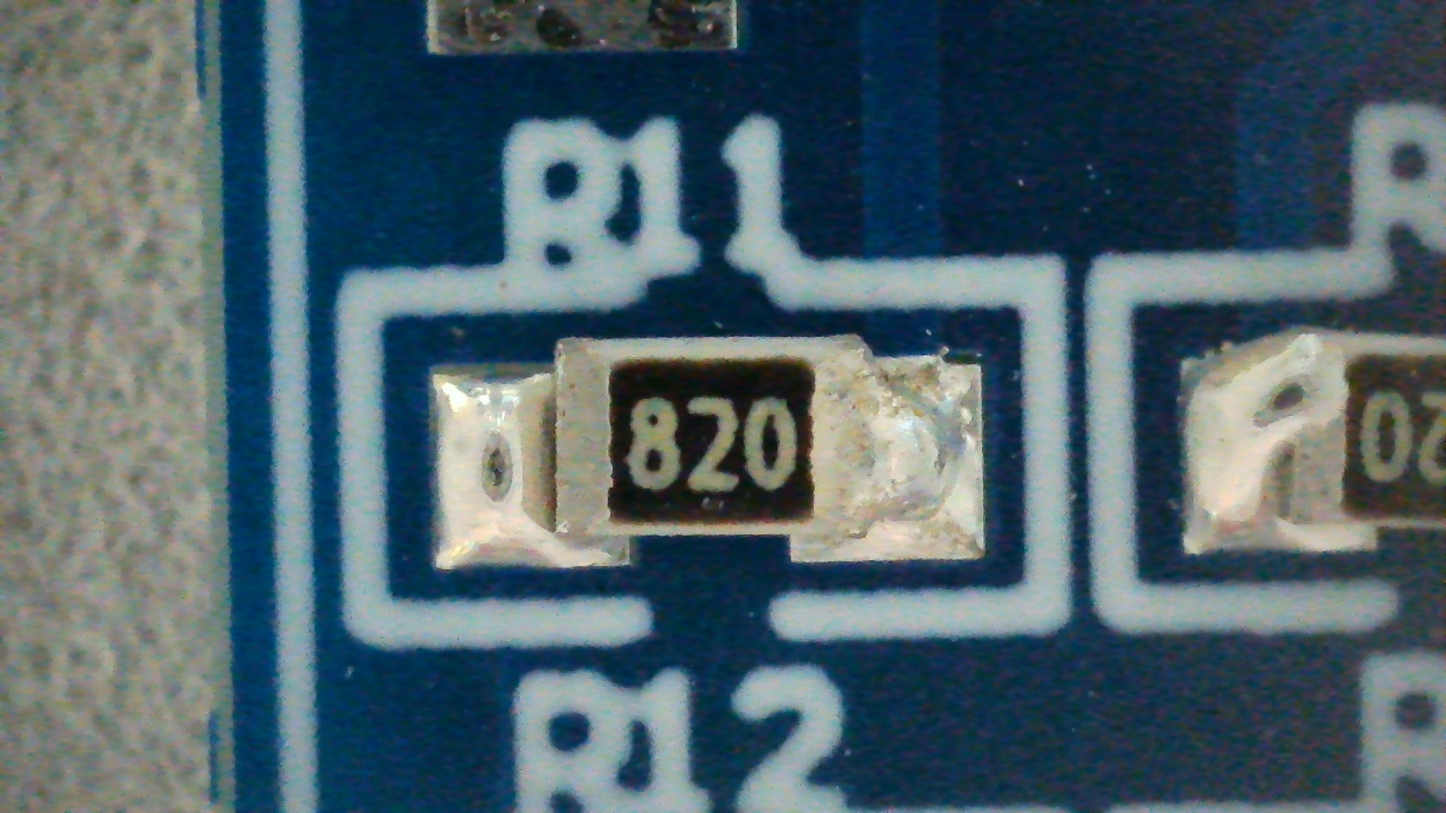NG: (435, 335, 985, 568)
